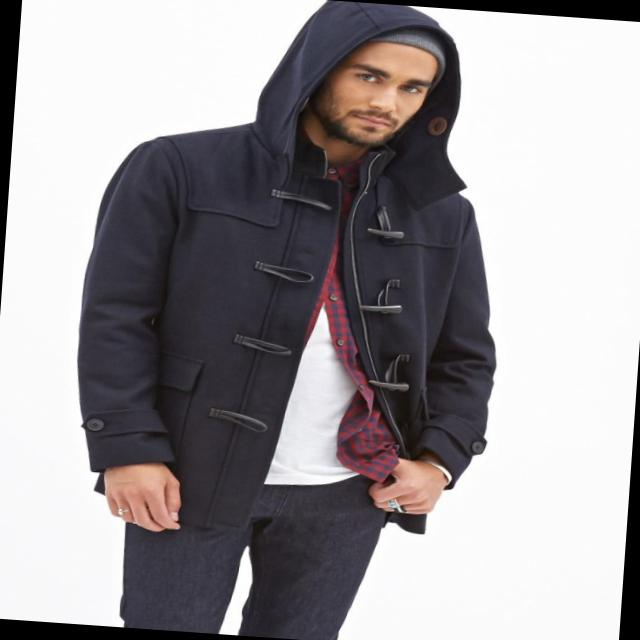Jacket: (59, 116, 518, 524)
